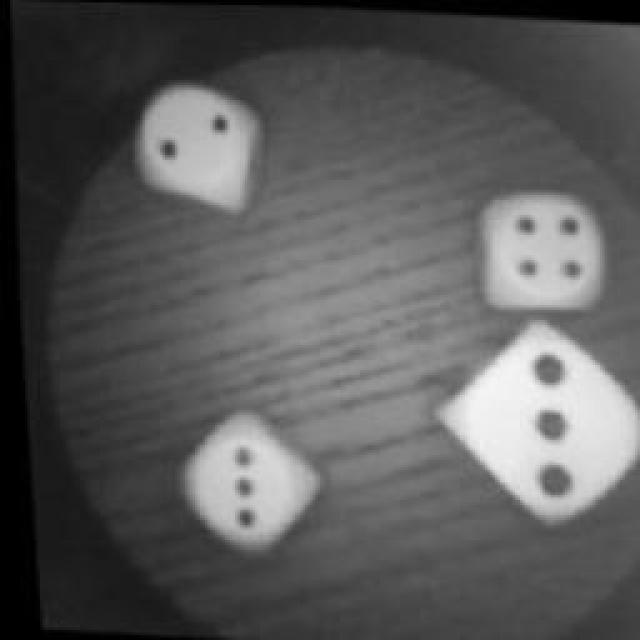dice_2: (125, 70, 265, 205)
dice_3: (435, 312, 640, 530), (167, 409, 315, 549)
dice_4: (469, 177, 616, 315)
